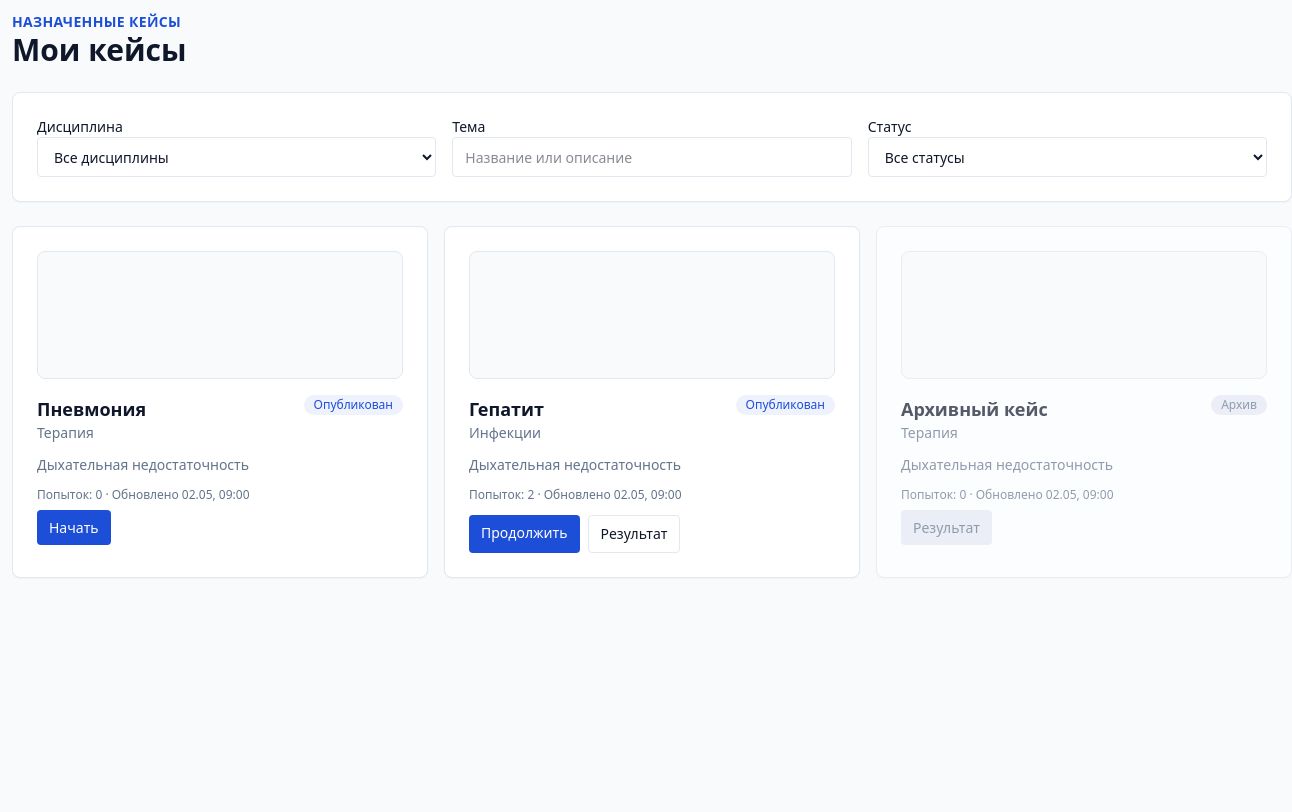
Test: Stage 8 dashboards and analytics › filters assigned cases by category and status
This screenshot has width=1292, height=812.
Expected: the heading "Мои кейсы" is shown, [12, 29, 186, 70]
Step 1. Select "Инфекции" in the dropdown labelled "Дисциплина" → (237, 157), box [37, 137, 436, 177]
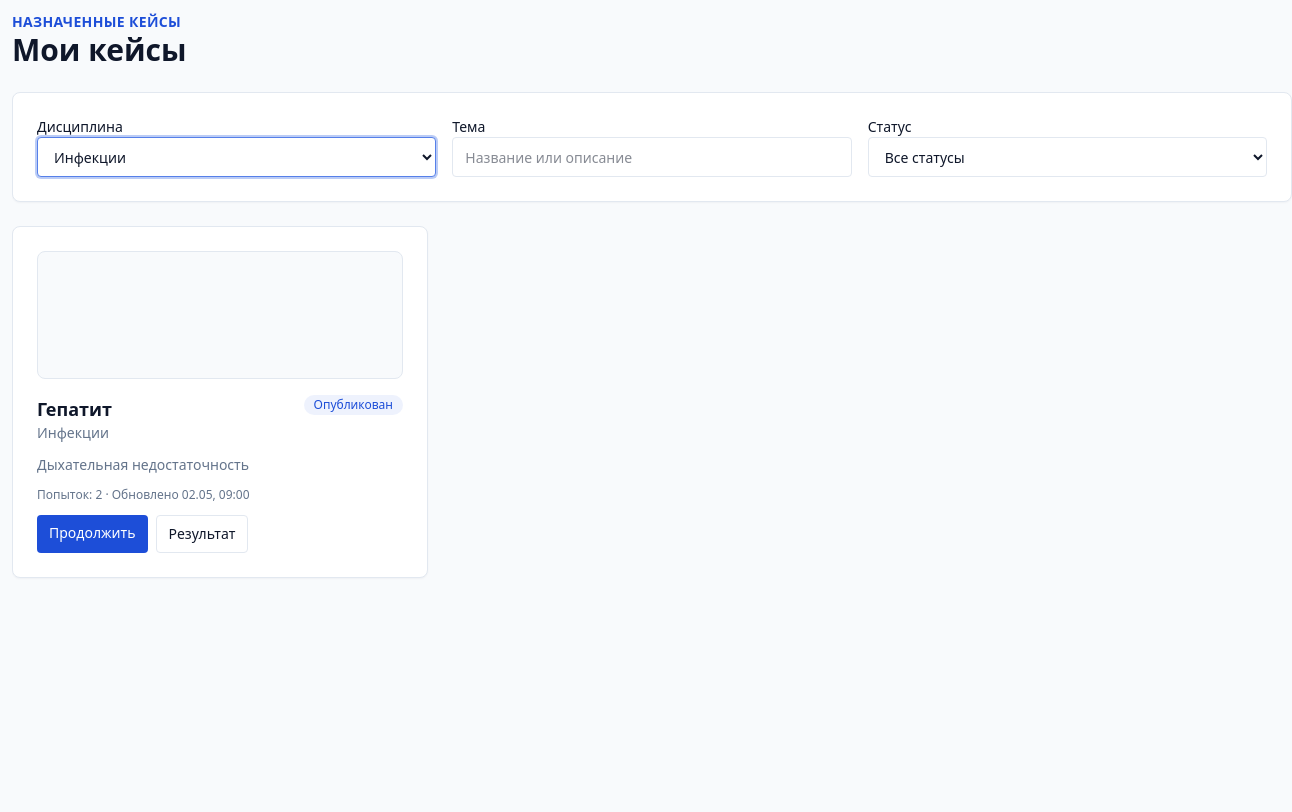
Expected: the heading "Гепатит" is shown, [37, 395, 112, 423]
Expected: the heading "Пневмония" is gone
Step 2. Select "Архив" in the dropdown labelled "Статус" → (1067, 157), box [868, 137, 1267, 177]
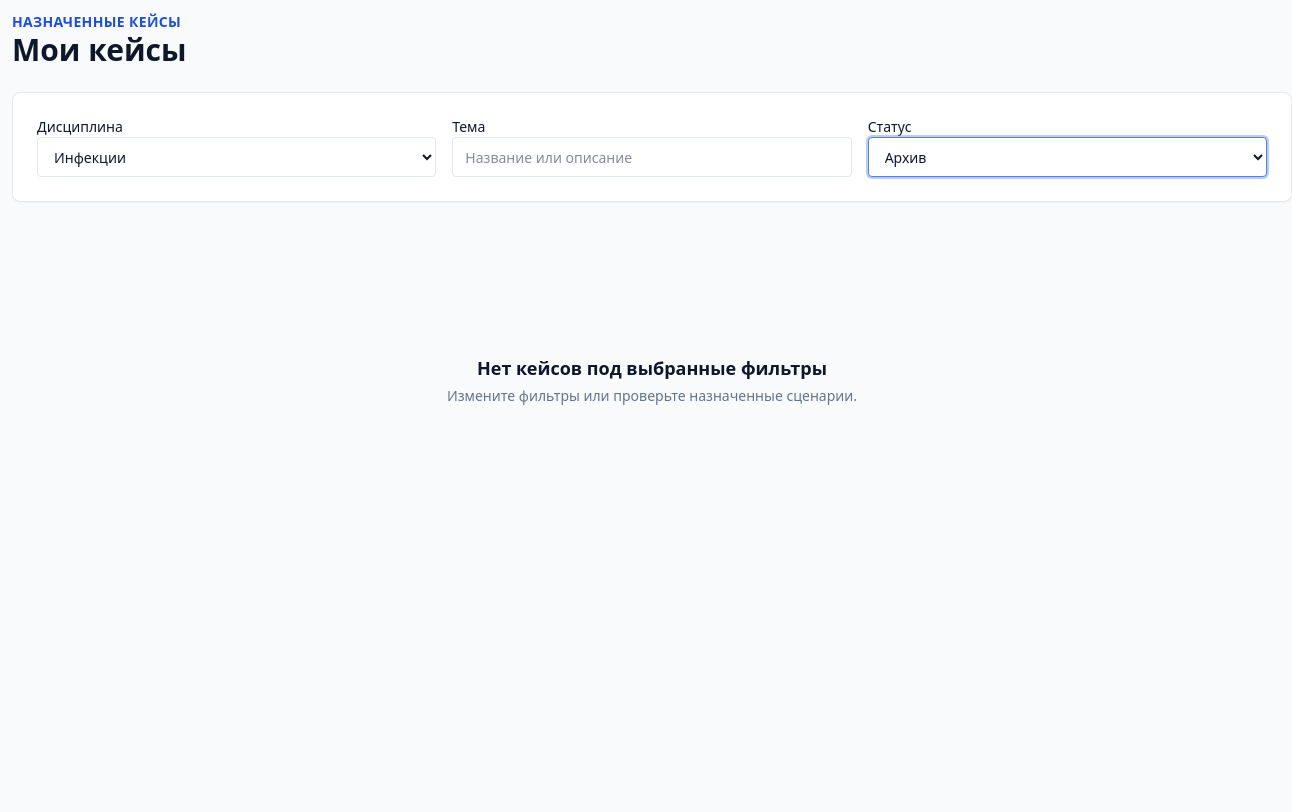
Expected: the heading "Нет кейсов под выбранные фильтры" is shown, [477, 356, 827, 380]
